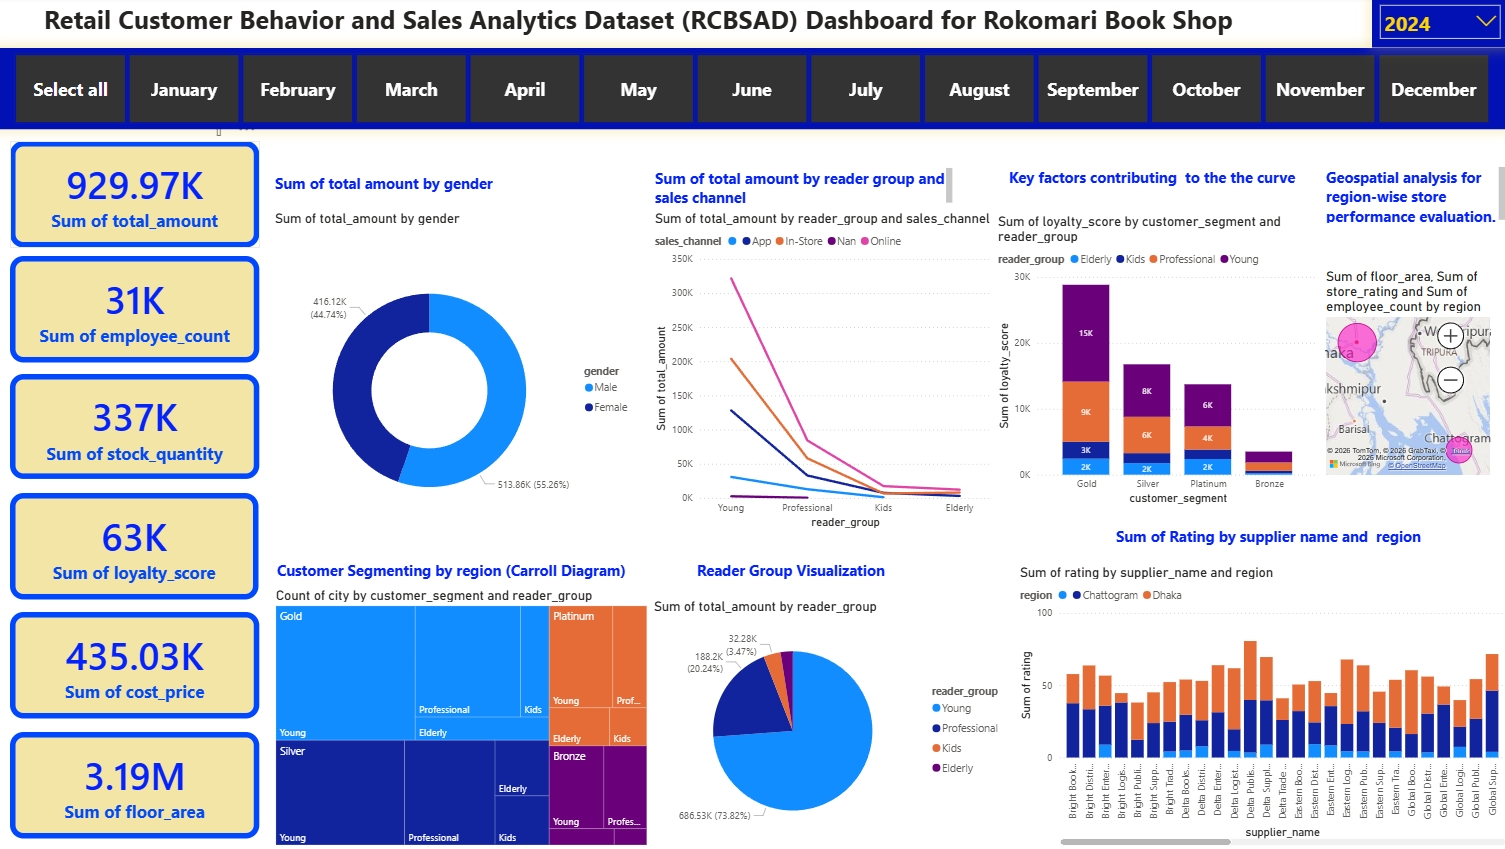

The page's visual inventory and layout, read from the dashboard file:
{"tool":"powerbi","page":{"name":"Page 1","canvas":[1920,1080],"ordinal":0},"visuals":[{"type":"lineChart","fields":{"Y":["Sum(sales_clean.total_amount)"],"Category":["sales_clean.reader_group"],"Series":["sales_clean.sales_channel"]},"box":[833.3,270,435,408.3],"z":0},{"type":"columnChart","fields":{"Category":["customers_clean.customer_segment"],"Series":["customers_clean.reader_group"],"Y":["Sum(customers_clean.loyalty_score)"]},"box":[1267.3,274.3,416.4,375.1],"z":1000},{"type":"pieChart","fields":{"Category":["sales_clean.reader_group"],"Y":["Sum(sales_clean.total_amount)"]},"box":[832,762,464,318],"z":2000},{"type":"lineStackedColumnComboChart","fields":{"Category":["suppliers_clean.supplier_name"],"Y":["Sum(suppliers_clean.rating)"],"Series":["suppliers_clean.region"]},"box":[1295,718.3,625,361.7],"z":3000},{"type":"map","fields":{"Size":["Sum(stores_clean.floor_area)"],"Category":["stores_clean.region"]},"box":[1683.3,343.3,218.3,268.3],"z":4000},{"type":"card","fields":{"Values":["Sum(sales_clean.total_amount)"]},"box":[20.9,182.9,316,134.7],"z":5000},{"type":"textbox","box":[57.8,0,1673.8,64.4],"z":6000},{"type":"card","fields":{"Values":["Sum(stores_clean.floor_area)"]},"box":[20.9,931.9,316,134.7],"z":7000},{"type":"card","fields":{"Values":["Sum(books_clean.stock_quantity)"]},"box":[20.9,478,316,133.1],"z":8000},{"type":"card","fields":{"Values":["Sum(books_clean.cost_price)"]},"box":[20.9,779.5,316,134.7],"z":9000},{"type":"card","fields":{"Values":["Sum(customers_clean.loyalty_score)"]},"box":[20,628.3,315,135],"z":10000},{"type":"card","fields":{"Values":["Sum(stores_clean.employee_count)"]},"box":[20.9,328.8,316,134.7],"z":11000},{"type":"treemap","fields":{"Details":["customers_clean.reader_group"],"Values":["CountNonNull(customers_clean.city)"],"Group":["customers_clean.customer_segment"]},"box":[352,748,480,332],"z":12000},{"type":"textbox","box":[351.7,218.3,508.3,41.7],"z":13000},{"type":"textbox","box":[886.7,708.3,261.7,41.7],"z":14000},{"type":"textbox","box":[353.8,708.8,465,41.2],"z":15000},{"type":"textbox","box":[833.3,211.7,386.7,56.7],"z":16000},{"type":"textbox","box":[1416.7,665,503.3,45],"z":17000},{"type":"textbox","box":[1281.4,210,381.4,57.1],"z":18000},{"type":"donutChart","fields":{"Category":["customers_clean.gender"],"Y":["Sum(sales_clean.total_amount)"]},"box":[351.7,270,466.7,438.3],"z":19000},{"type":"textbox","box":[1682.9,210,237.1,81.4],"z":20000},{"type":"slicer","fields":{"Values":["sales_clean.sales_date.Variation.Date Hierarchy.Month"]},"box":[0,65,1920,103.3],"z":21000},{"type":"slicer","fields":{"Values":["sales_clean.sales_date.Variation.Date Hierarchy.Year"]},"box":[1746.5,0,173.5,64.4],"z":22000}]}

Visuals, with their boxes in screenshot pixels (x1, y1, x2, y2), scaled from the page's 1920x1080 canvas onto the 1505x849 screenshot:
lineChart - Sum(sales_clean.total_amount) x sales_clean.reader_group: bbox(653, 212, 994, 533)
columnChart - customers_clean.customer_segment x customers_clean.reader_group: bbox(993, 216, 1320, 511)
pieChart - sales_clean.reader_group x Sum(sales_clean.total_amount): bbox(652, 599, 1016, 848)
lineStackedColumnComboChart - suppliers_clean.supplier_name x Sum(suppliers_clean.rating): bbox(1015, 565, 1504, 848)
map - Sum(stores_clean.floor_area) x stores_clean.region: bbox(1319, 270, 1491, 481)
card - Sum(sales_clean.total_amount): bbox(16, 144, 264, 250)
textbox: bbox(45, 0, 1357, 51)
card - Sum(stores_clean.floor_area): bbox(16, 733, 264, 838)
card - Sum(books_clean.stock_quantity): bbox(16, 376, 264, 480)
card - Sum(books_clean.cost_price): bbox(16, 613, 264, 719)
card - Sum(customers_clean.loyalty_score): bbox(16, 494, 263, 600)
card - Sum(stores_clean.employee_count): bbox(16, 258, 264, 364)
treemap - customers_clean.reader_group x CountNonNull(customers_clean.city): bbox(276, 588, 652, 848)
textbox: bbox(276, 172, 674, 204)
textbox: bbox(695, 557, 900, 590)
textbox: bbox(277, 557, 642, 590)
textbox: bbox(653, 166, 956, 211)
textbox: bbox(1110, 523, 1504, 558)
textbox: bbox(1004, 165, 1303, 210)
donutChart - customers_clean.gender x Sum(sales_clean.total_amount): bbox(276, 212, 642, 557)
textbox: bbox(1319, 165, 1504, 229)
slicer - sales_clean.sales_date.Variation.Date Hierarchy.Month: bbox(0, 51, 1504, 132)
slicer - sales_clean.sales_date.Variation.Date Hierarchy.Year: bbox(1369, 0, 1504, 51)
